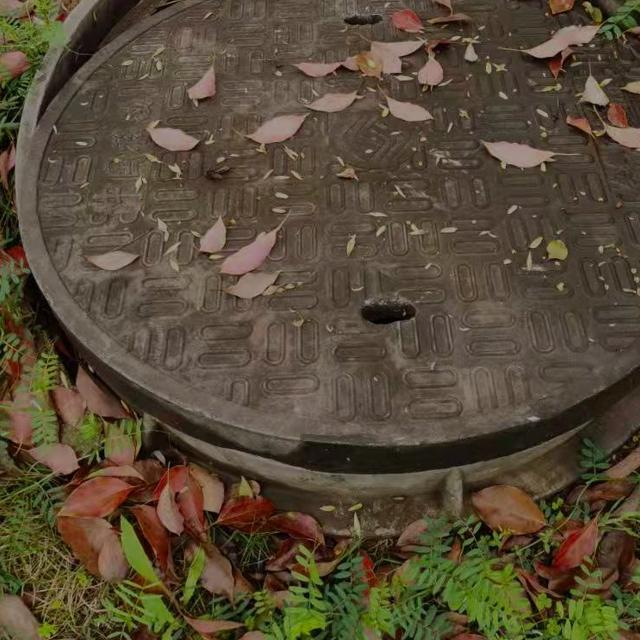uncovered: (11, 0, 640, 510)
